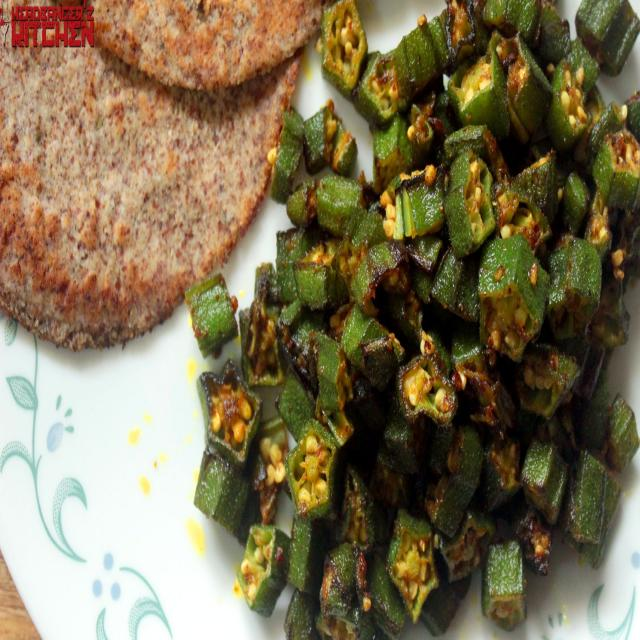Bhindi Masala: (192, 0, 640, 640)
